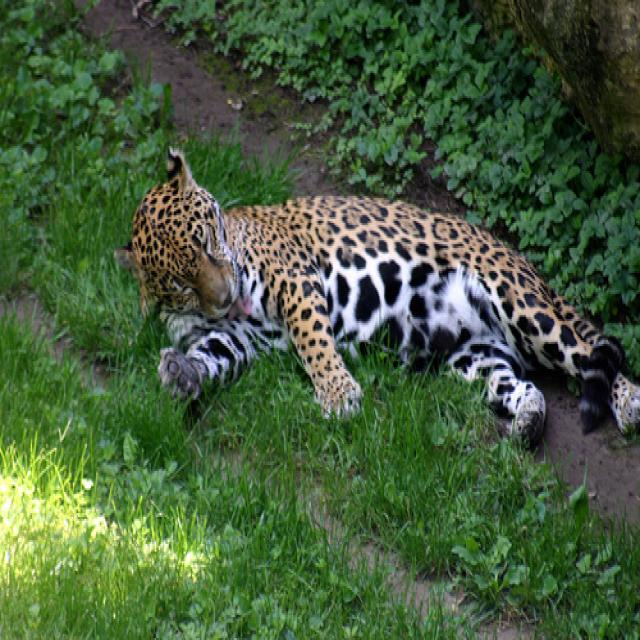Leopard: (111, 144, 635, 436)
